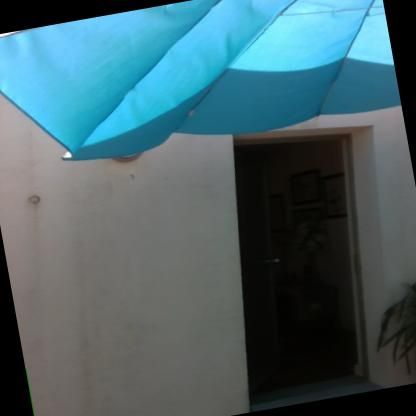open: (202, 105, 415, 406)
